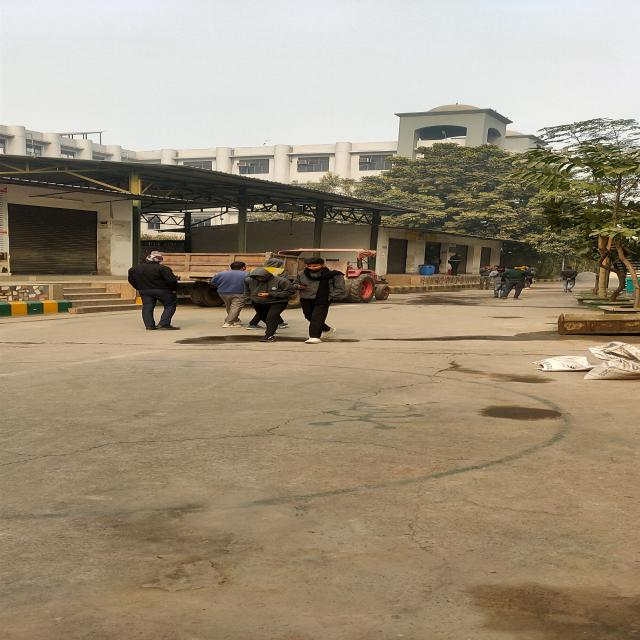unsafe: (126, 248, 191, 332), (293, 258, 345, 342), (207, 261, 249, 326), (251, 268, 286, 340)
